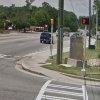Crosswalk: (34, 66, 89, 100)
